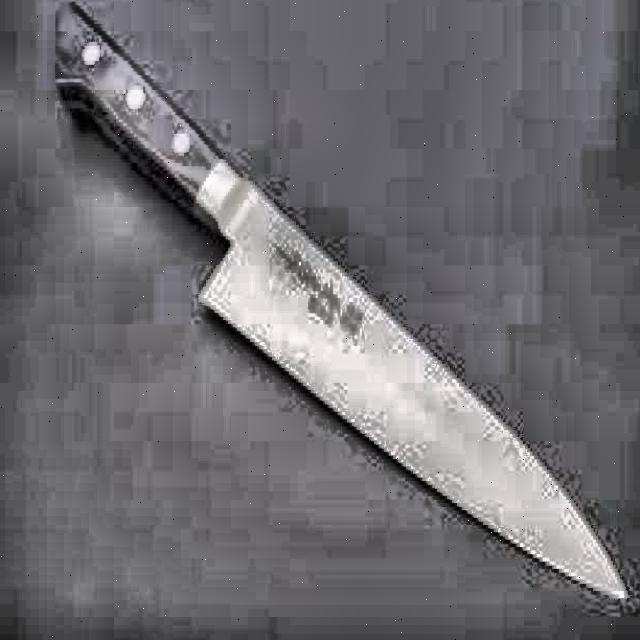knife: (49, 2, 633, 622)
